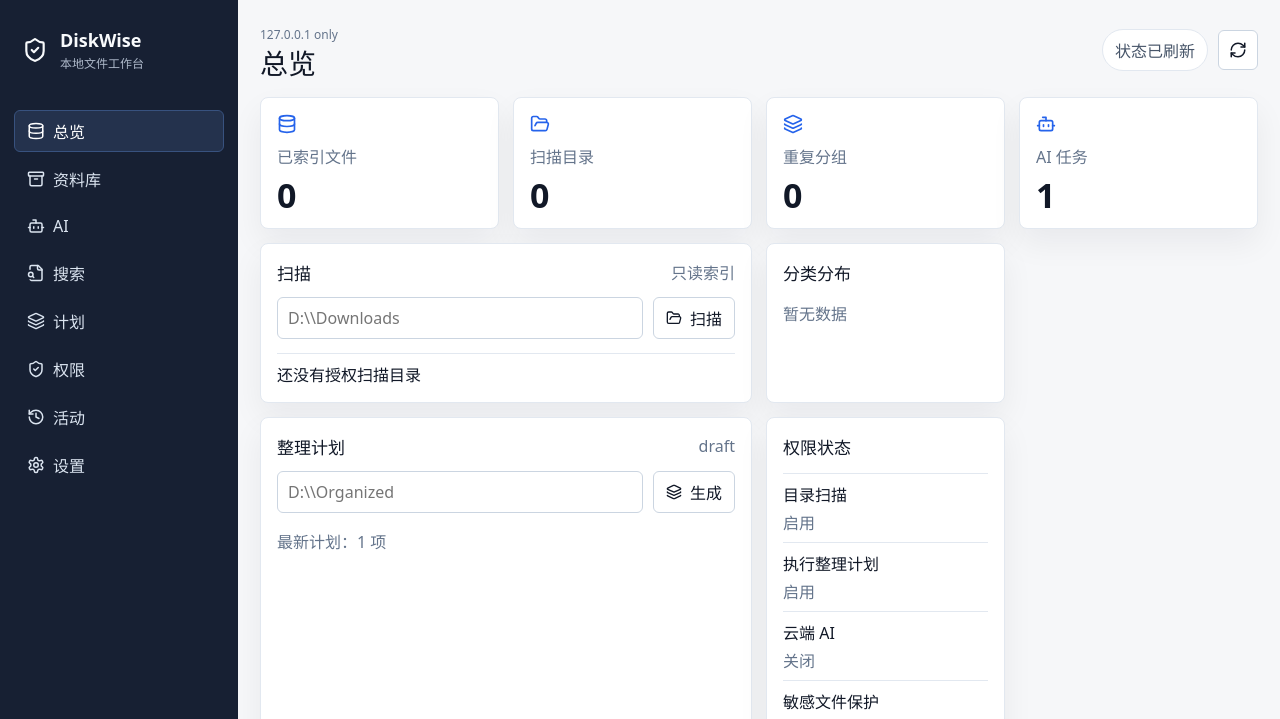
Test: DiskWise web workbench › blocks plan execution without the confirmation word
The image size is (1280, 719).
Check: the text "已索引文件" is shown, box [277,146,357,168]
Click the button "计划". click: (119, 321)
box: [14,300,224,342]
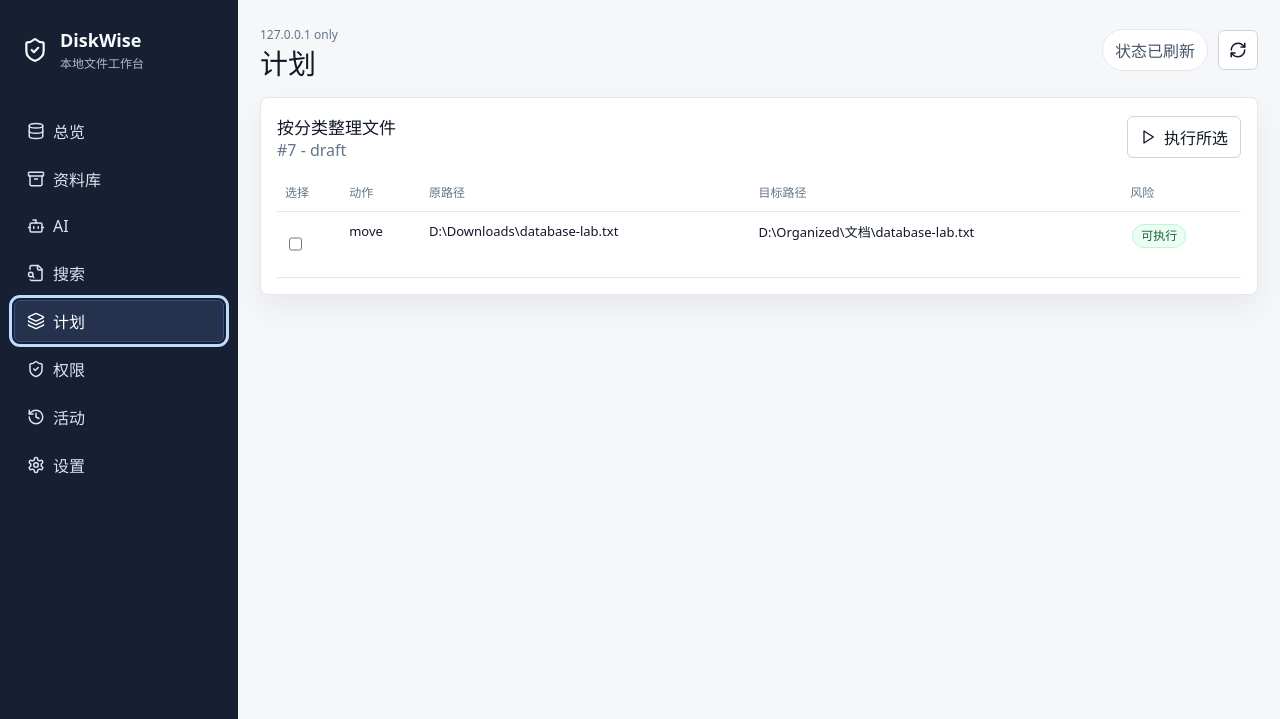
Click the button "执行所选". click: (1184, 137)
box: [1127,116,1241,158]
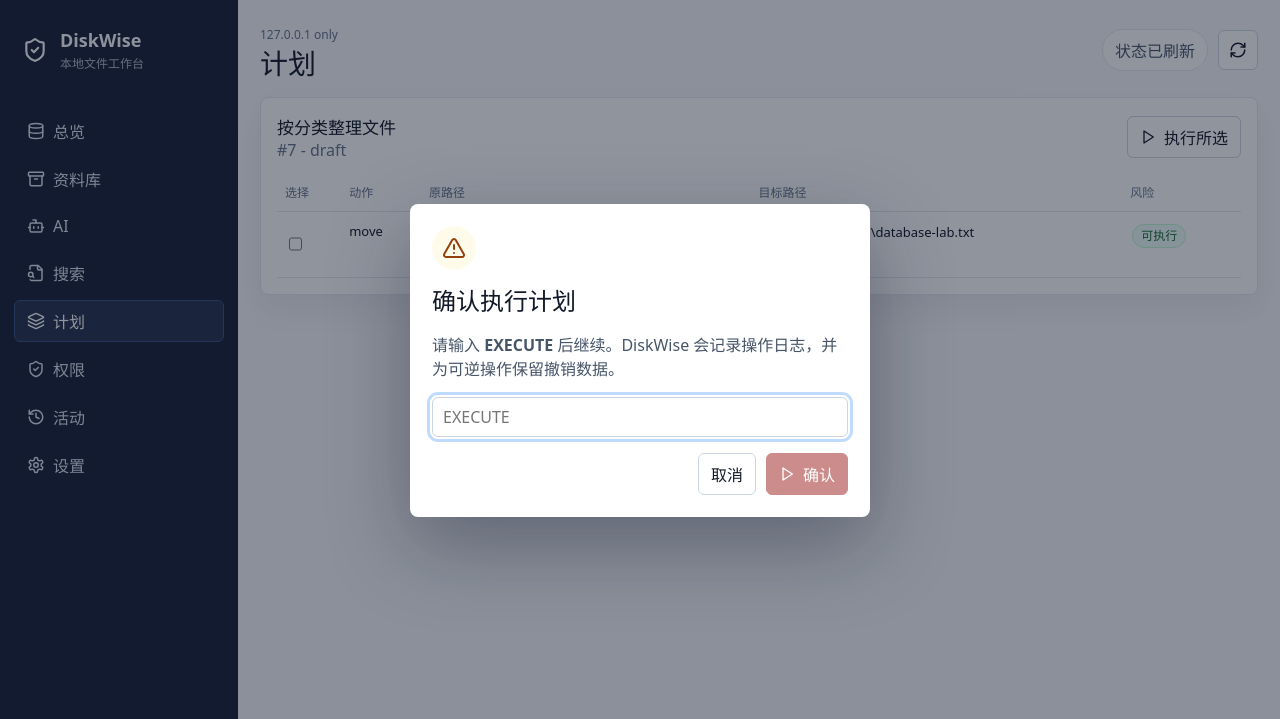
Check: the button "确认" is disabled, box [766,452,848,494]
